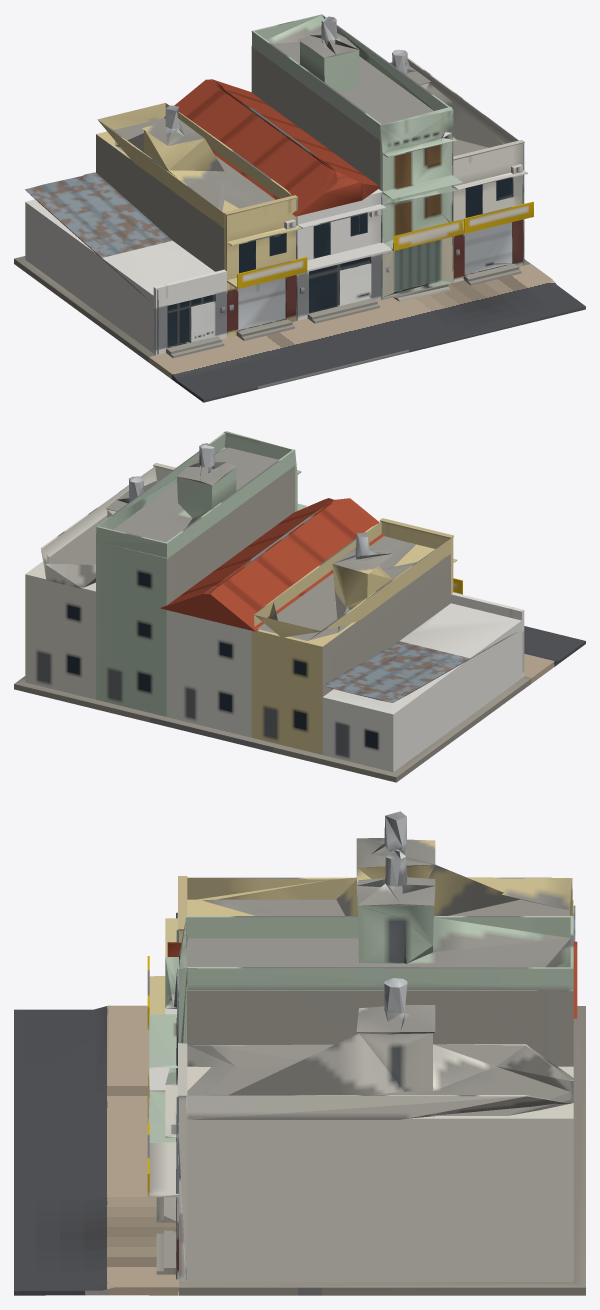
Rendered from day_pho_vung_tau.far.glb.
3 renders of one model, top to bottom at view 1: azimuth 30°, elevation 25°; view 2: azimuth 150°, elevation 25°; view 3: azimuth 270°, elevation 25°, orthographic. The views are drawn at different scales.
Parts seen in each view (by area): view 1: day_pho_vung_tau; view 2: day_pho_vung_tau; view 3: day_pho_vung_tau.
Part boxes in pixels (<box>): day_pho_vung_tau: <box>14,14,585,402</box>; day_pho_vung_tau: <box>14,431,585,782</box>; day_pho_vung_tau: <box>14,811,585,1295</box>.
Bounding box in the file's own units: 27 × 15.59 × 23.18.
16 materials, 16 textured.
